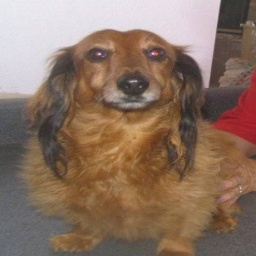dog: (24, 26, 256, 256)
